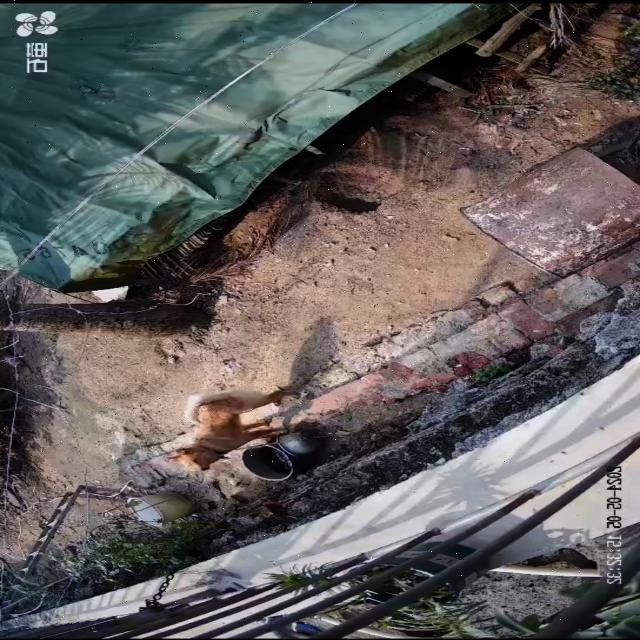dog: (167, 385, 299, 471)
